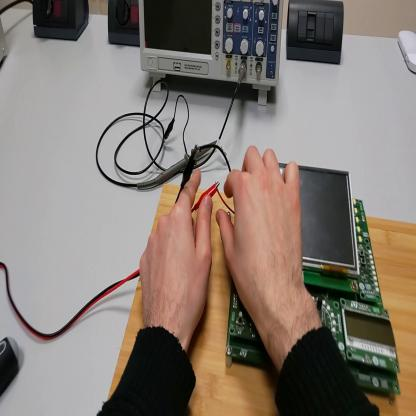hand: (218, 143, 307, 325), (137, 169, 212, 340)
low voltage board: (198, 144, 402, 398)
oscilloscope: (138, 2, 285, 98)
oscilloscope probe tip: (137, 139, 216, 188)
screwdriver-: (1, 339, 24, 398)
socket: (33, 3, 91, 44), (106, 2, 140, 50)
